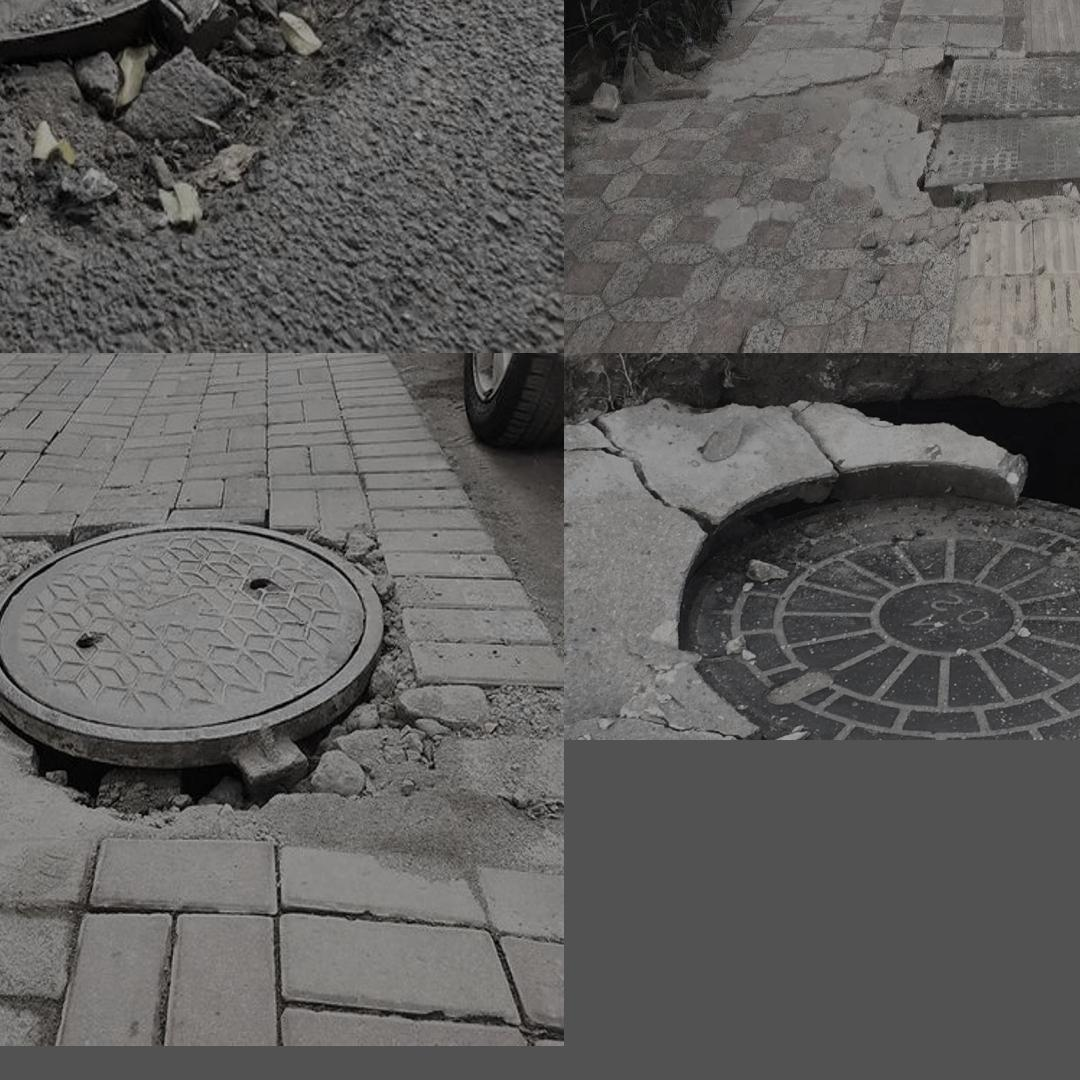circle: (572, 368, 1080, 735), (0, 522, 488, 838), (0, 0, 420, 245), (880, 12, 1080, 278)
